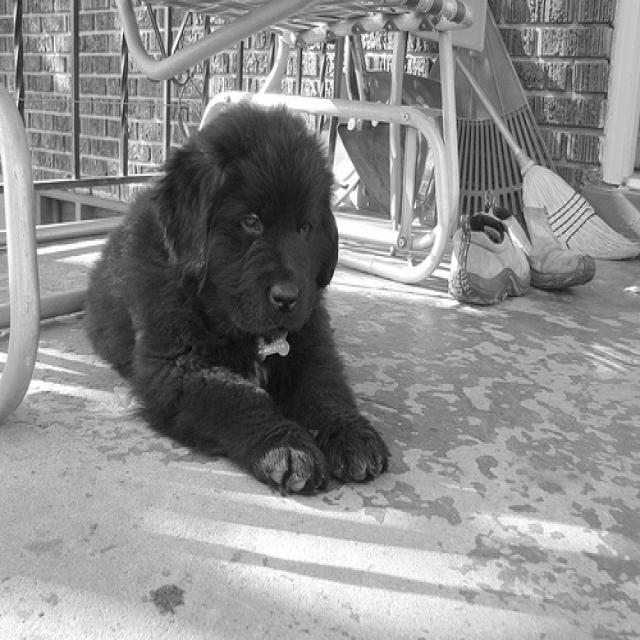dog: (152, 106, 337, 331)
